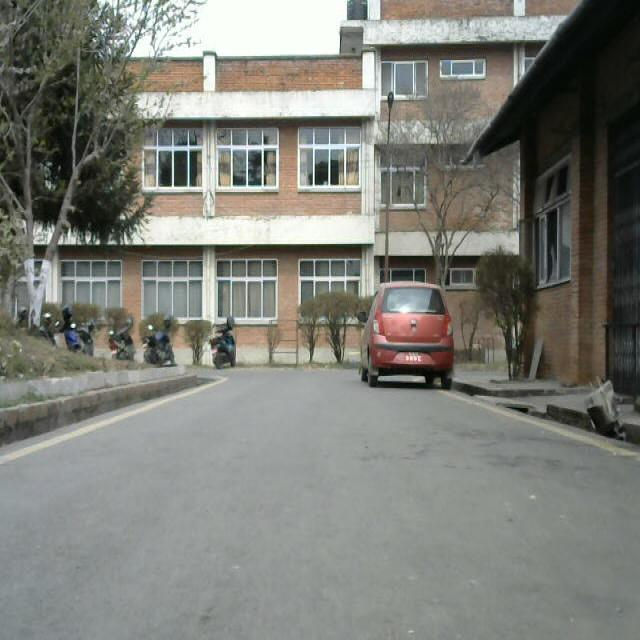Bike: (144, 309, 184, 377), (104, 302, 136, 362), (208, 318, 236, 373)
Buildings: (127, 0, 577, 272)
Car: (363, 281, 468, 396)
Pole: (382, 86, 402, 310)
Road: (0, 380, 624, 640)
trees: (2, 5, 157, 337)
